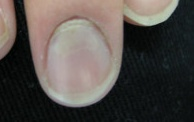SJS-TEN: (39, 6, 125, 71)
